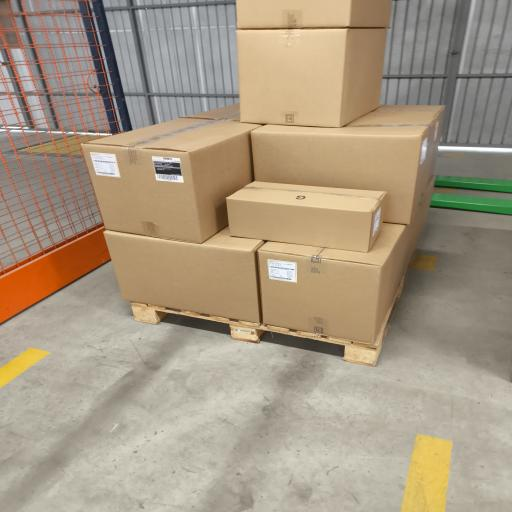pallet: (132, 276, 405, 366), (261, 276, 405, 366), (131, 302, 264, 343)
